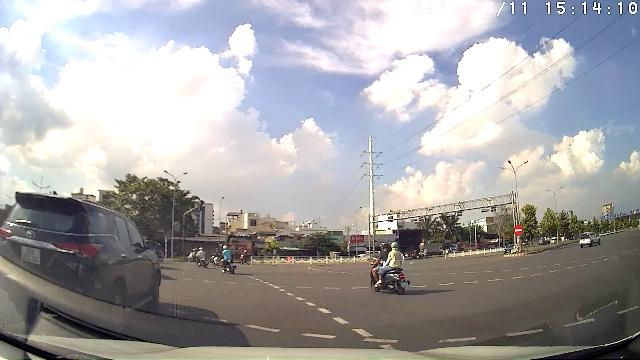102-cam-di-nguoc-chieu: (513, 225, 524, 236)
